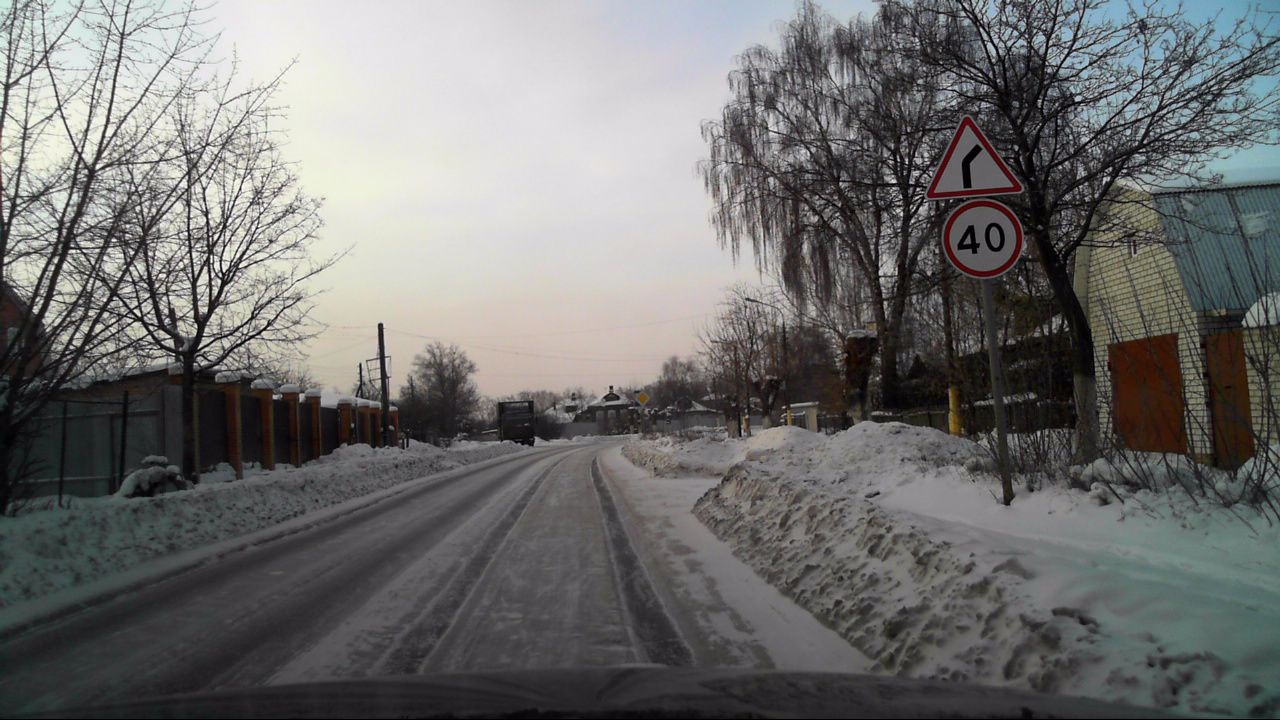speed_warning_40: (942, 201, 1025, 280)
